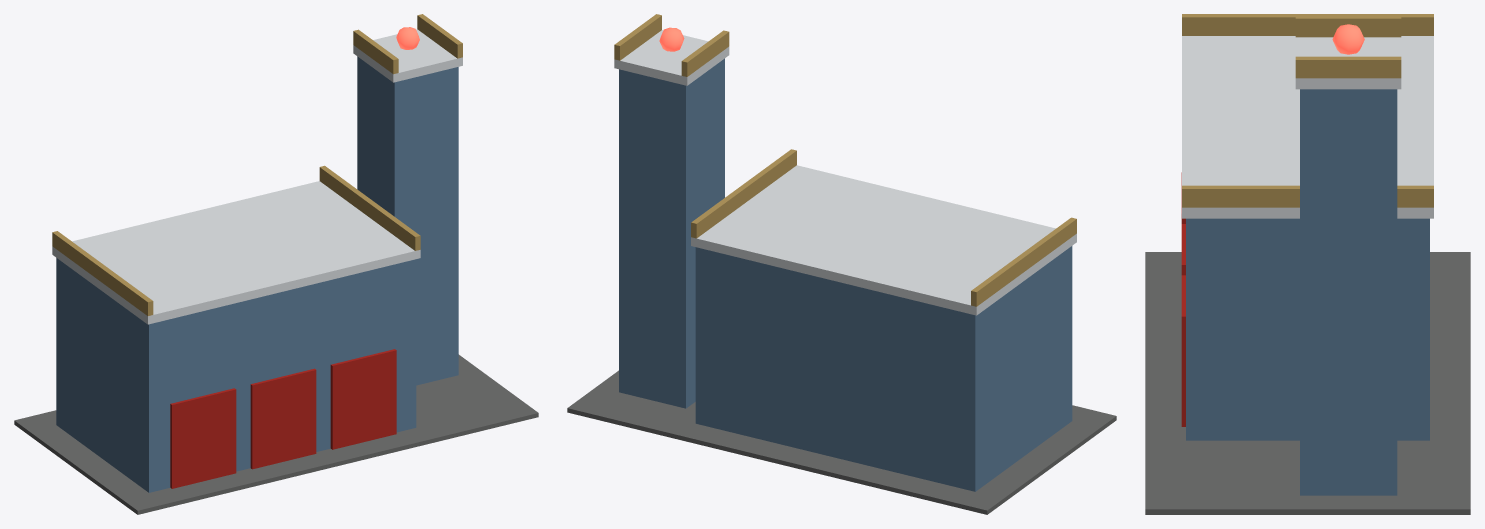
File: bld_special_fire_station_a10_lod1.glb
3 renders of one model, left to right at view 1: azimuth 30°, elevation 25°; view 2: azimuth 150°, elevation 25°; view 3: azimuth 270°, elevation 25°, orthographic. The views are drawn at different scales.
Parts seen in each view (by area): view 1: body; view 2: body; view 3: body.
Boxes of the visible parts, left/top/right/bottom form: body: left=14, top=14, right=538, bottom=514; body: left=567, top=14, right=1116, bottom=514; body: left=1145, top=14, right=1470, bottom=514.
Size of the model in its own units: 15 by 12.38 by 8.
